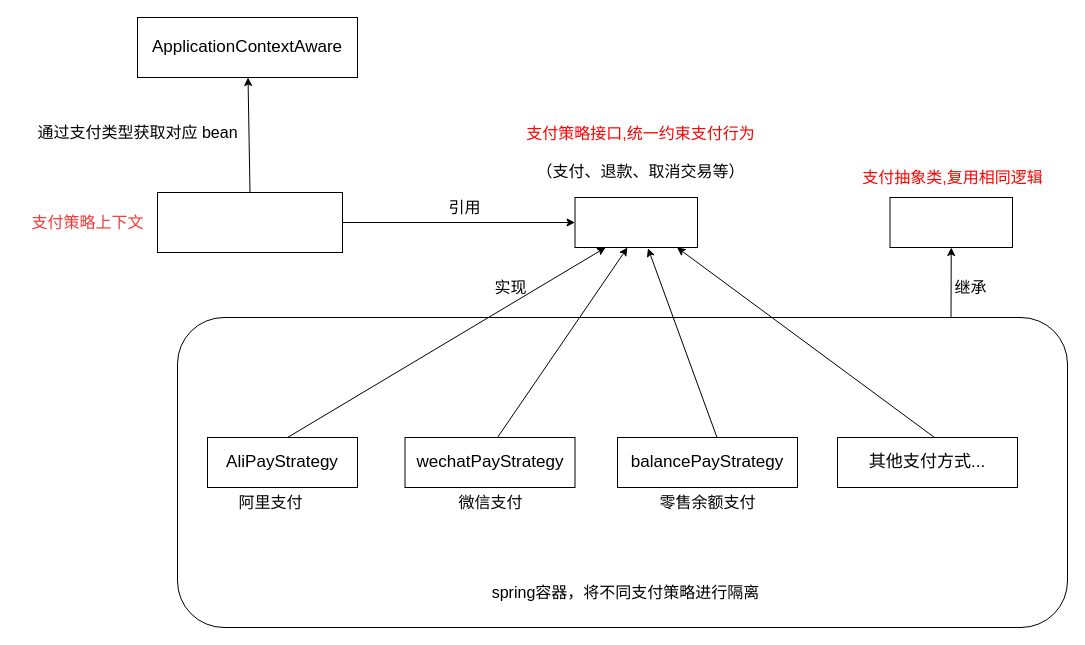
Some shapes in this 1085 by 645 pixel diagram are drawn without their labels. The shapes that lost their labels are listed below. From the top down, each one's centre as x and y in pixels, then its label:
point (249, 222): PayContextStrategy
point (636, 222): IPayStrategy
point (950, 222): AbstractPay
